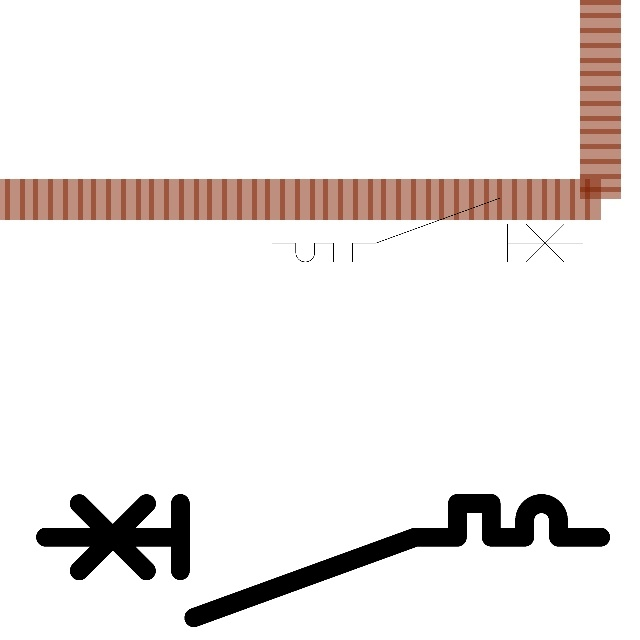interruptor_termomagnetico: (31, 489, 615, 632), (264, 190, 591, 270)
